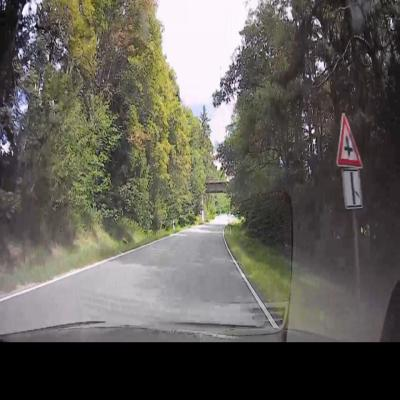clear-road: (86, 226, 248, 302)
